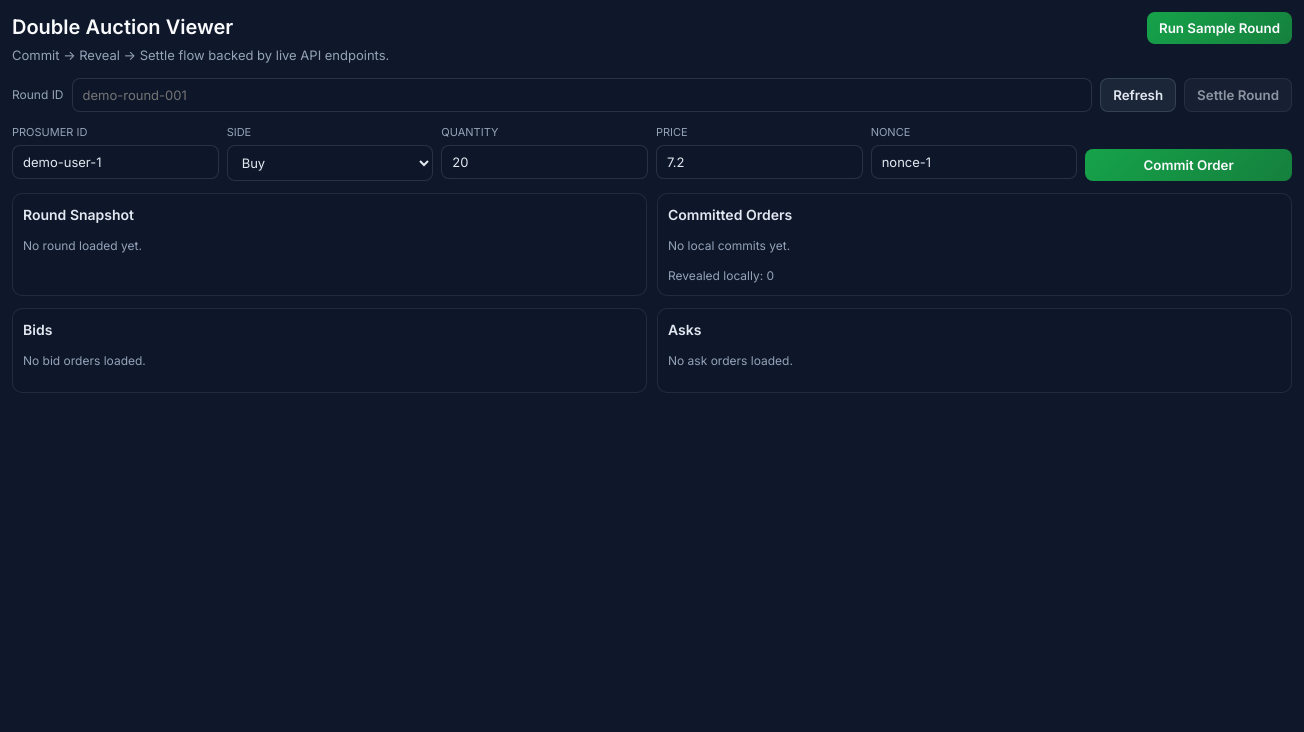
Test: AuctionRoundViewer › runs sample round and performs commit, reveal, and settle sequence
Click the button "Run Sample Round" at coordinates (1220, 28), box [1147,12,1292,44]
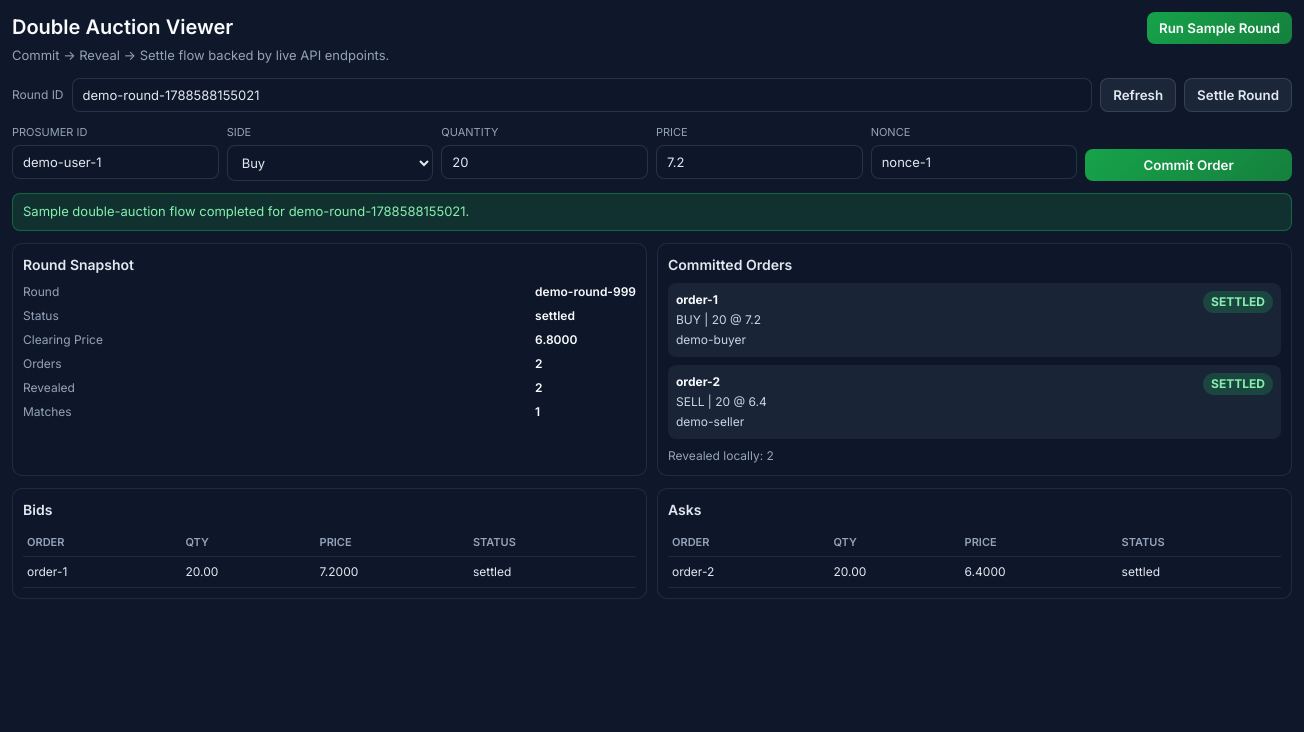
Check: the text "Sample double-auction flow completed" is shown, box [23,203,469,219]
